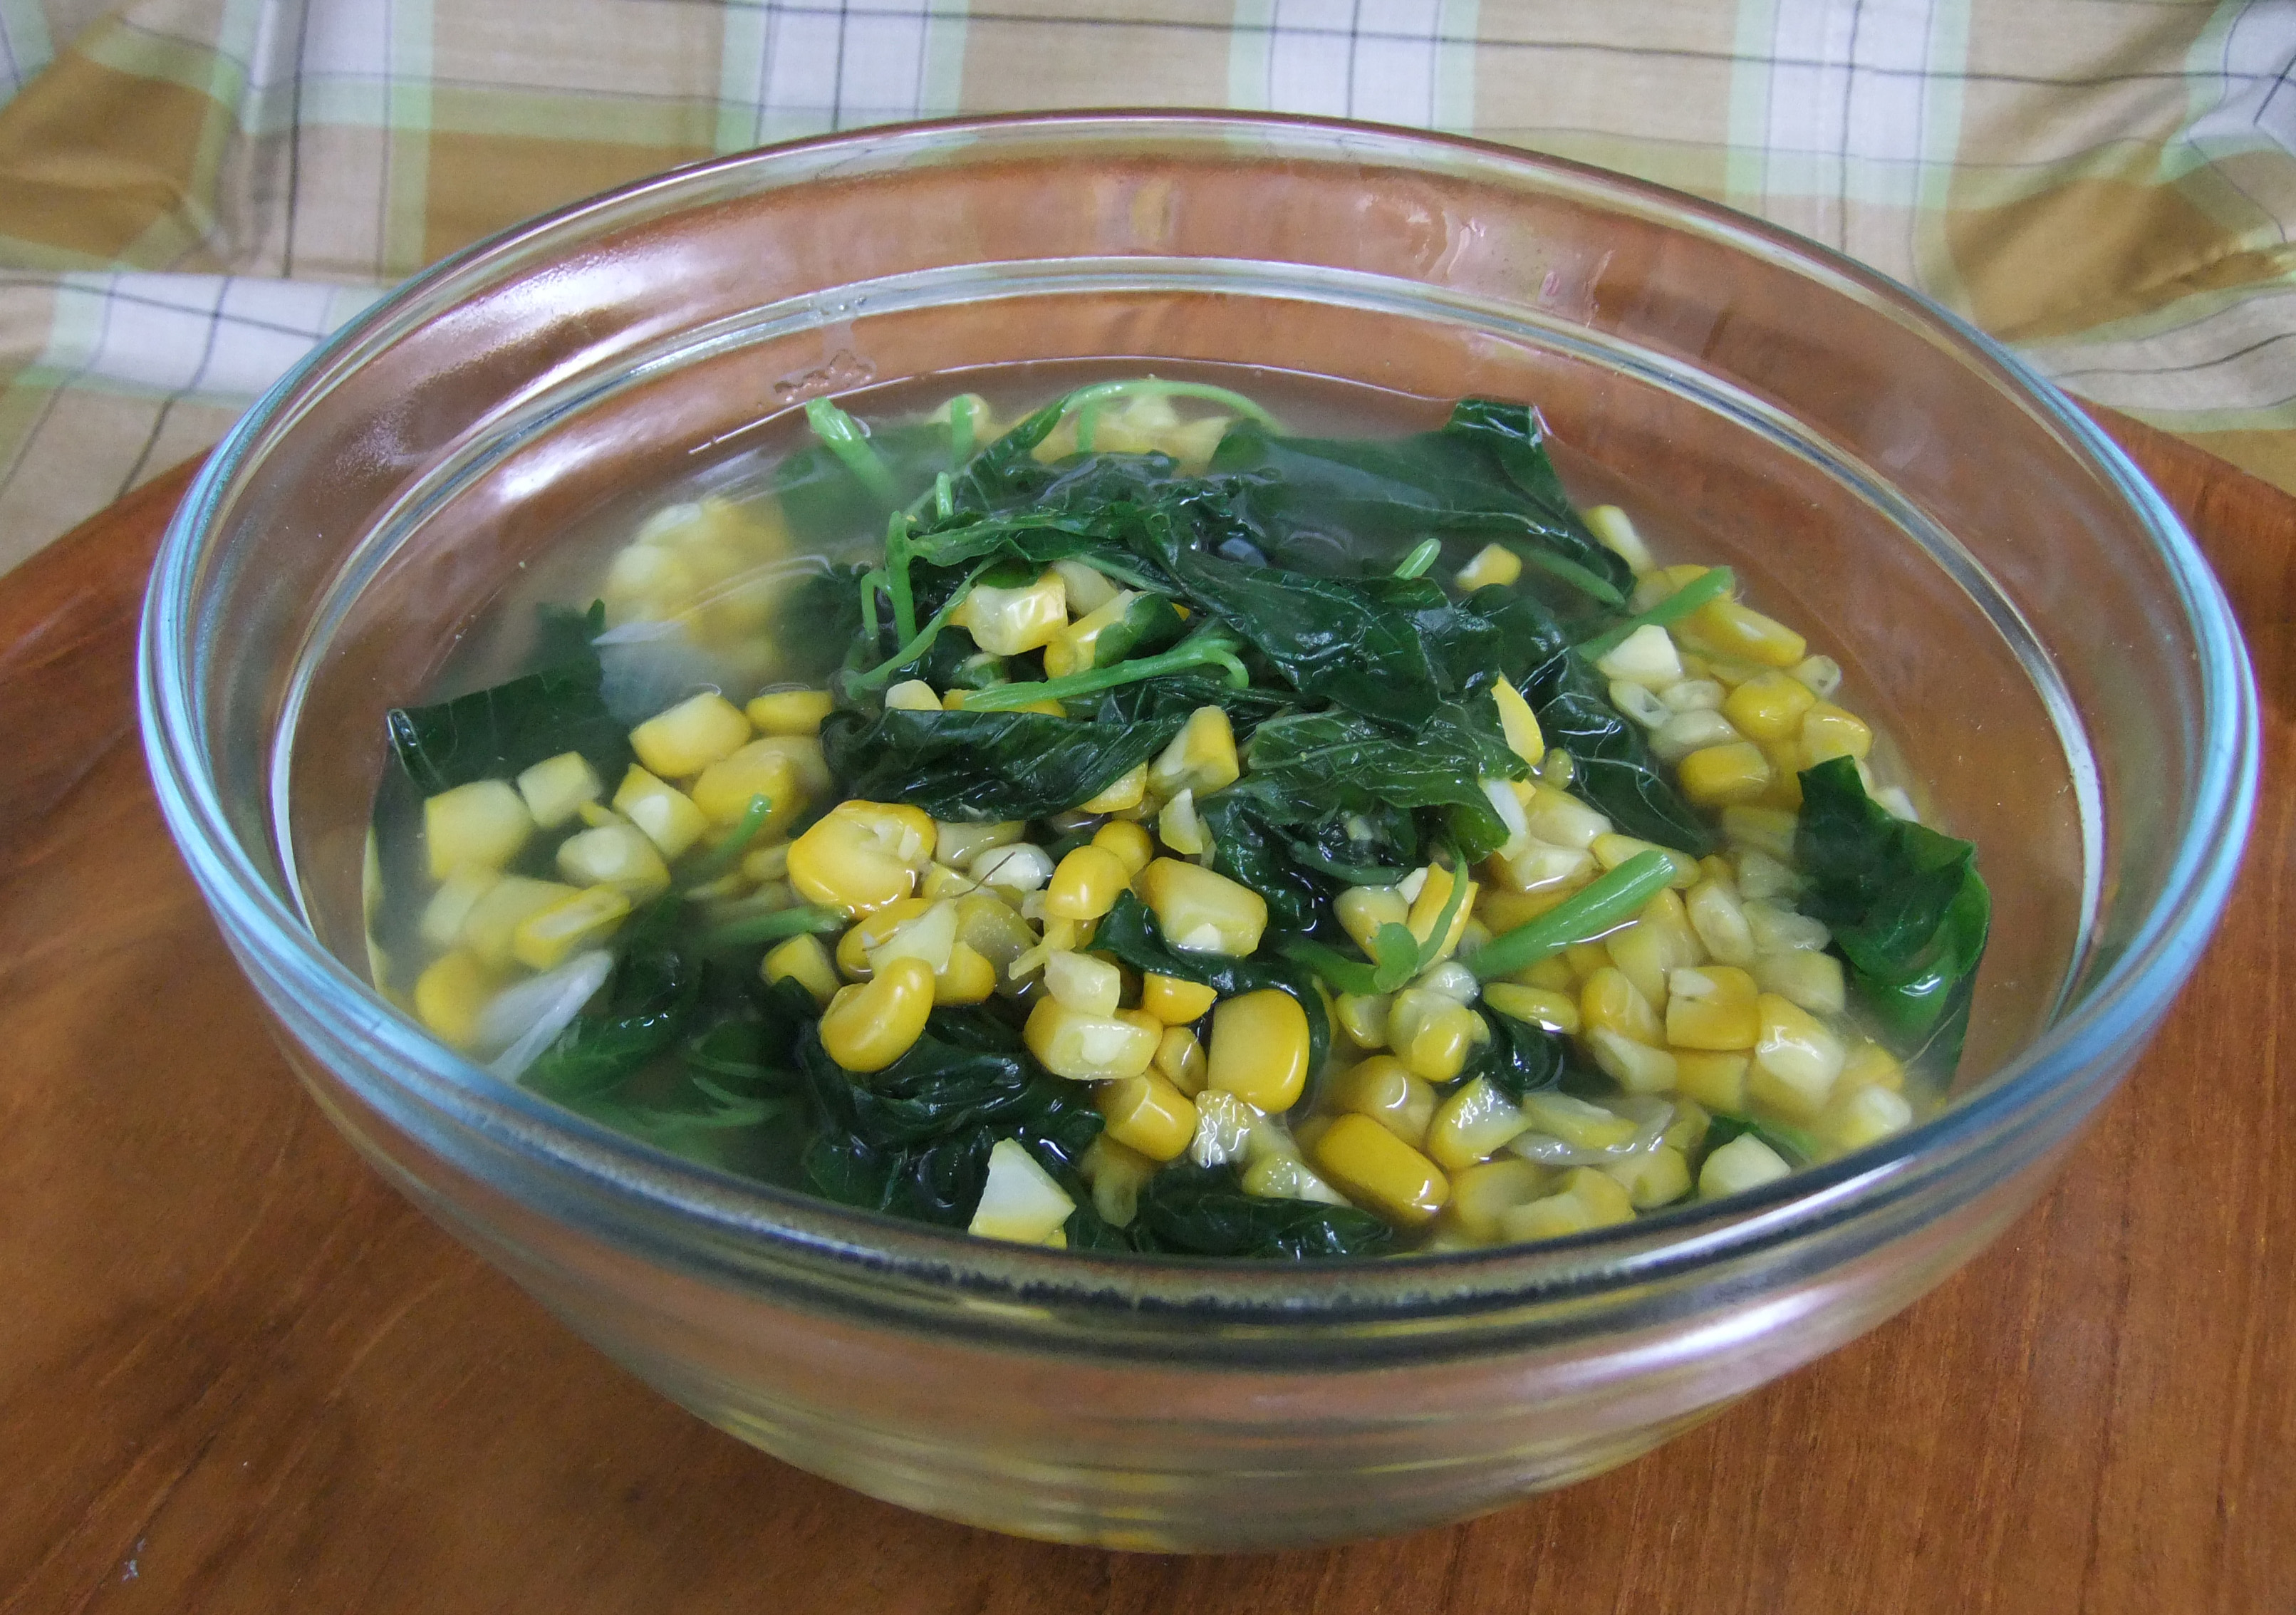Sayur Bayam: (545, 255, 2053, 1251)
